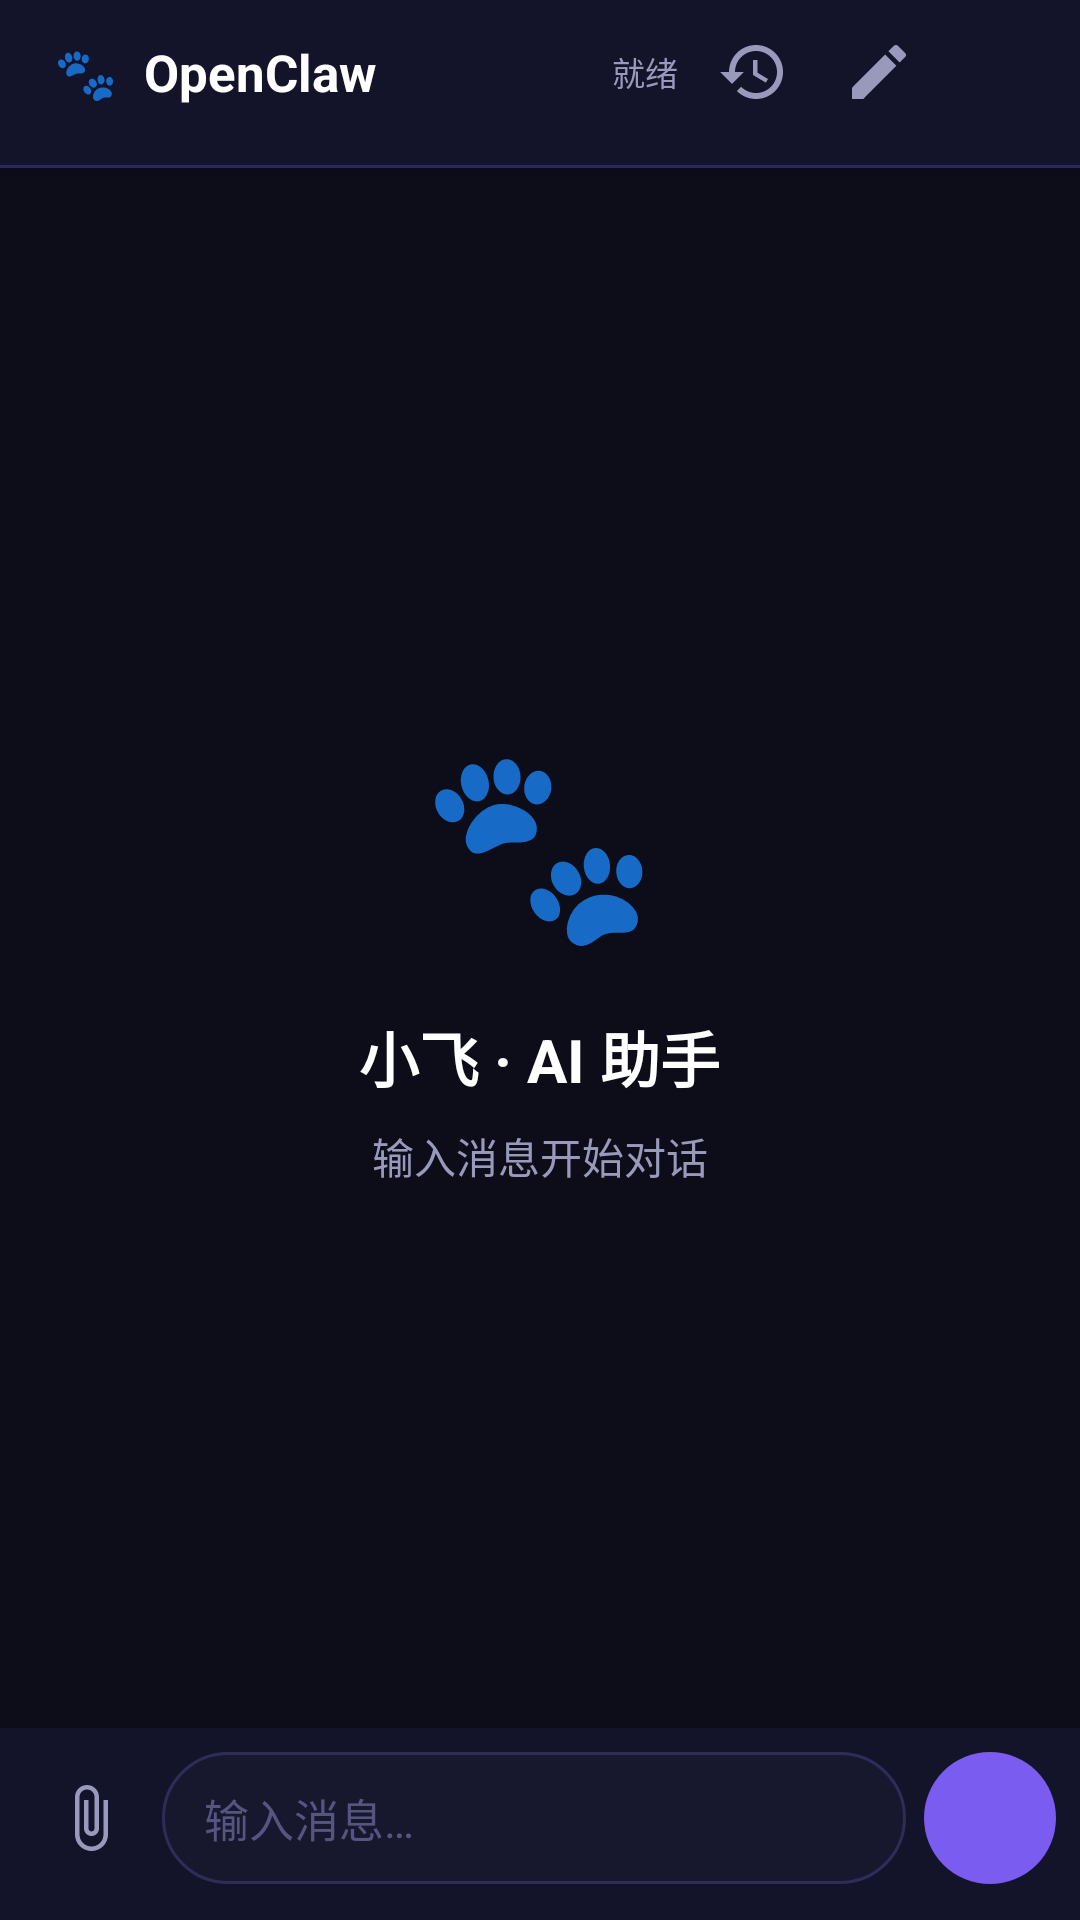

Screen size 1080*1920. Icon name, then its center in pixels as point (x, y):
上传文件: point (91, 1818)
历史记录: point (751, 72)
新对话: point (879, 72)
